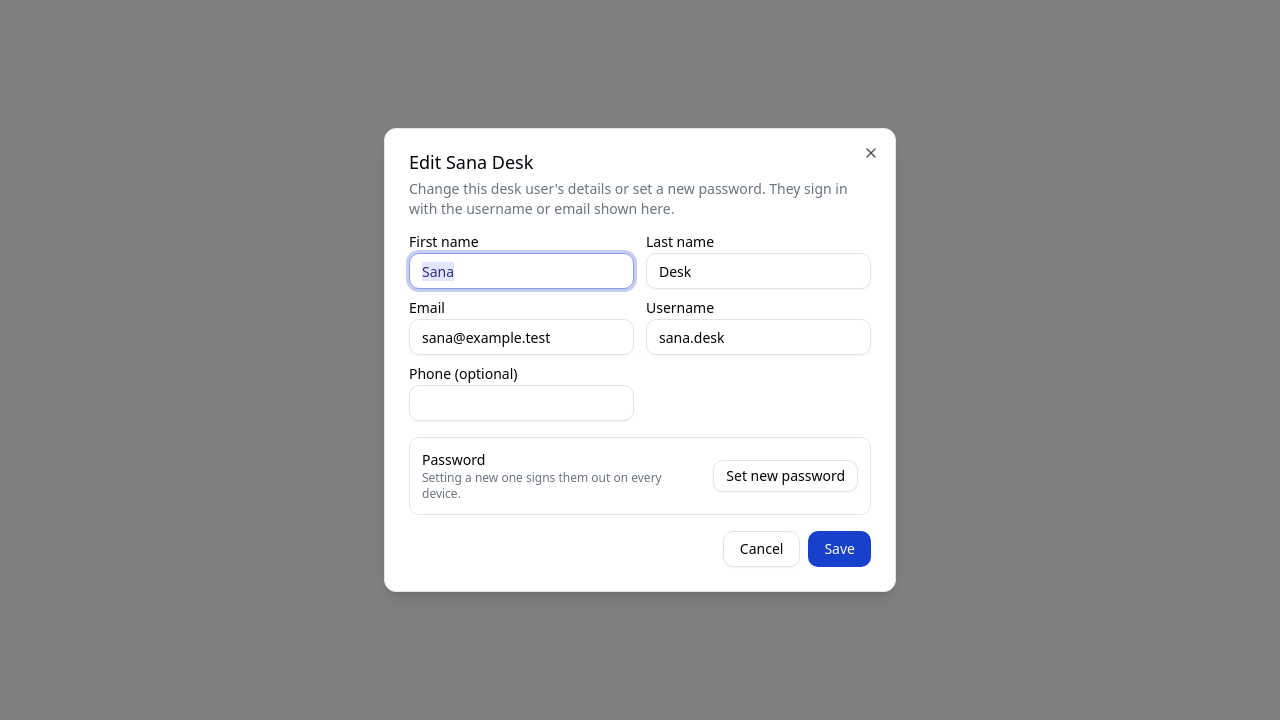
Test: EditApricartAccountDialog › shows the server's refusal and stays open
Replace the text in the field labelled "Username" with "taken.name". click: x=758, y=337
box: 646,319 -> 871,355
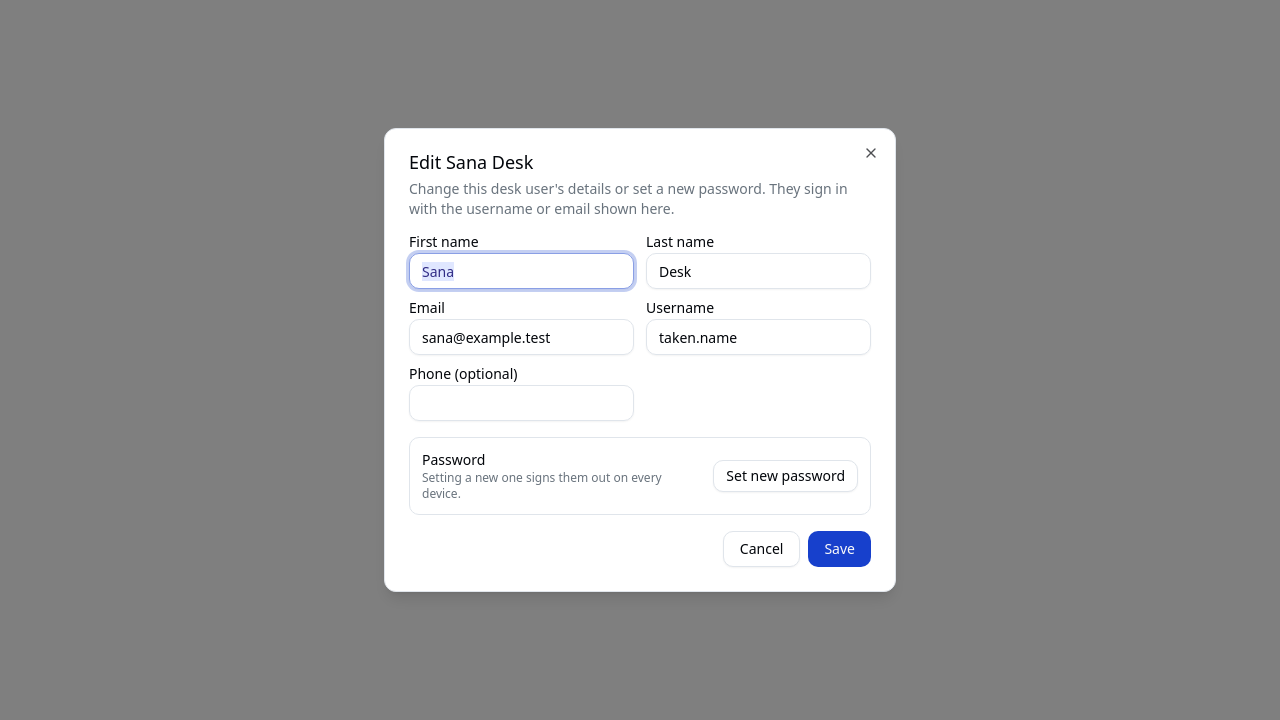
Click the button "Save". click: x=840, y=549
box: 808,531 -> 871,567
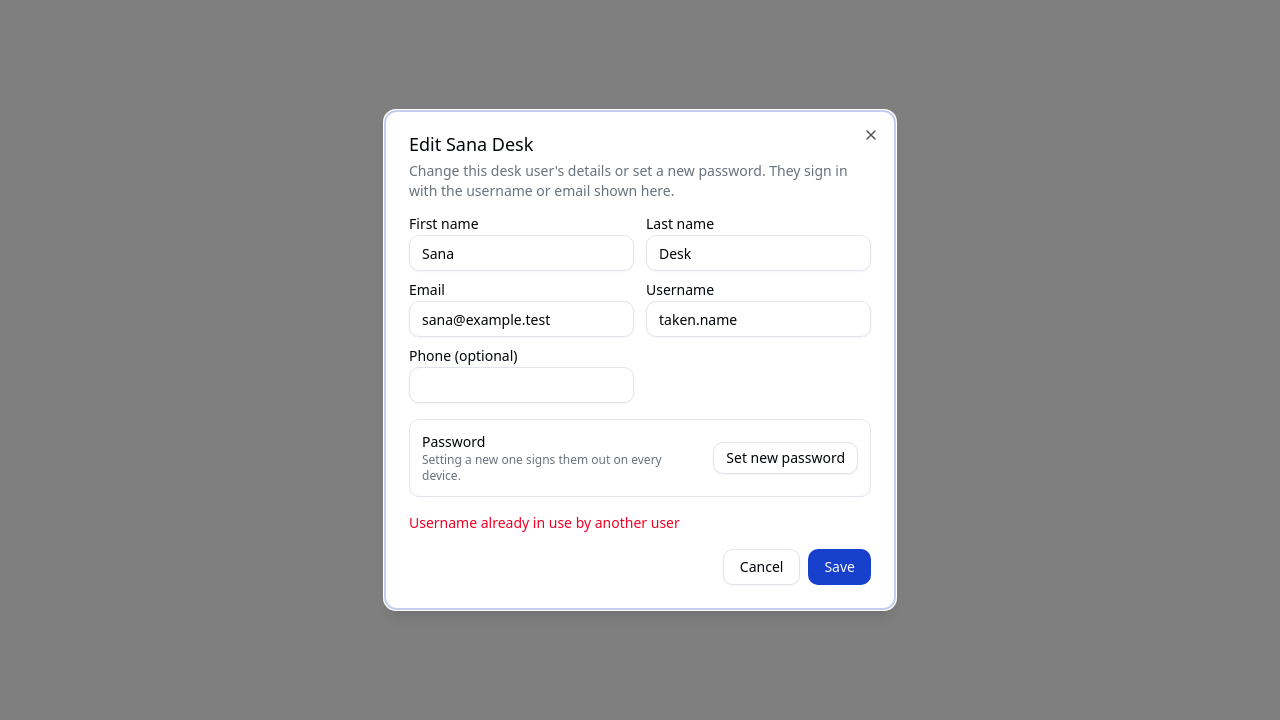
Expected: the message reads "Username already in use by another user", 409,513 -> 680,532
